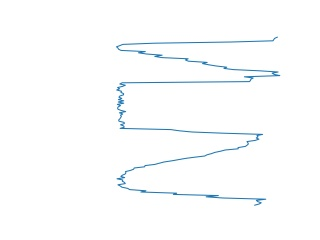distributaryChannelFill: (113, 73, 264, 142)
mouthBar: (112, 35, 284, 77)
underwaterDistributaryChannel: (113, 139, 269, 208)
